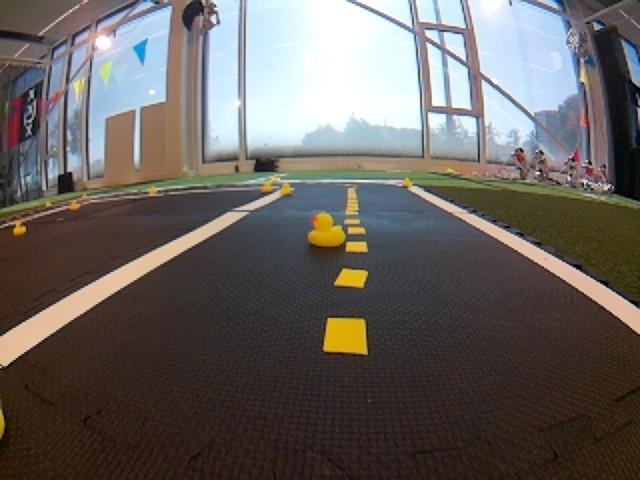Duckies: (308, 211, 345, 248), (13, 221, 27, 235), (279, 182, 294, 194), (261, 182, 274, 191), (69, 201, 81, 210), (402, 178, 412, 187), (271, 176, 280, 183), (148, 186, 158, 192), (44, 200, 52, 207), (82, 194, 87, 199)
